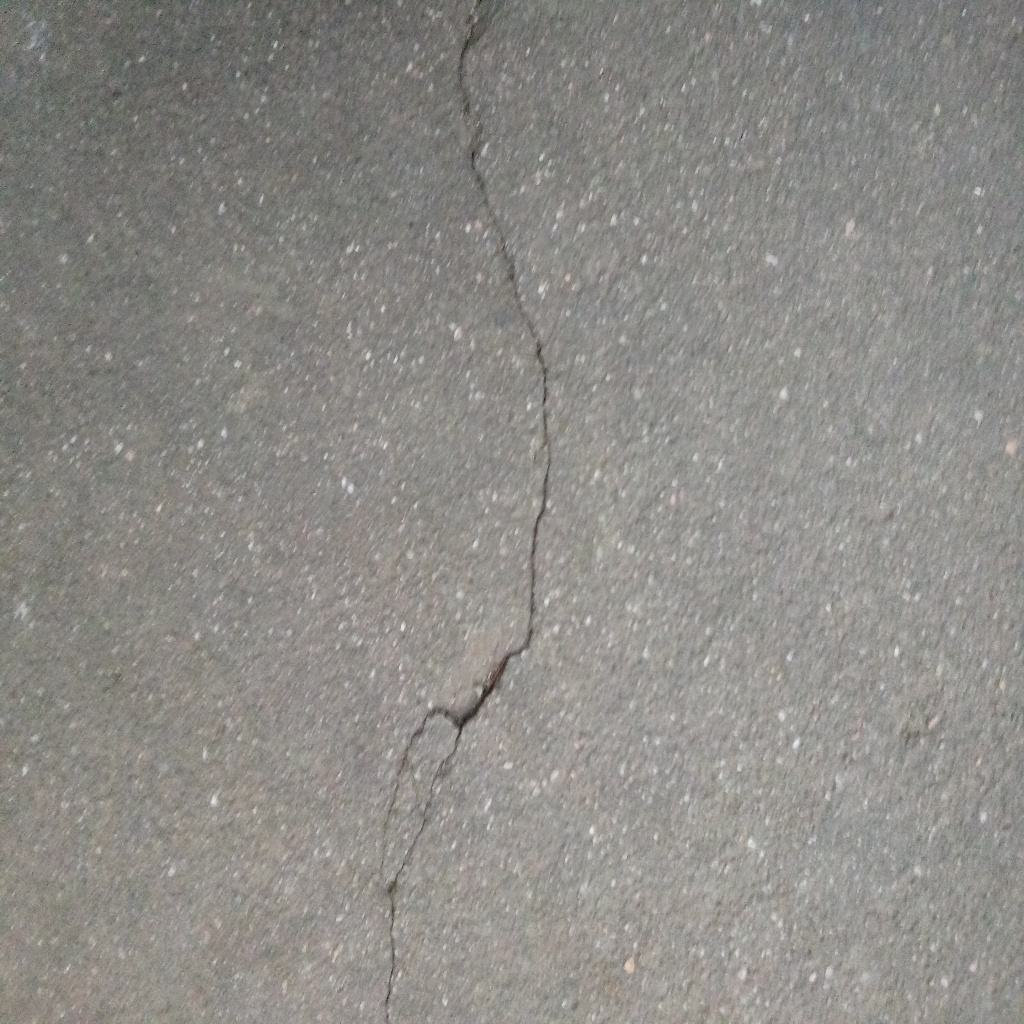Crack: (379, 1, 552, 1024)
